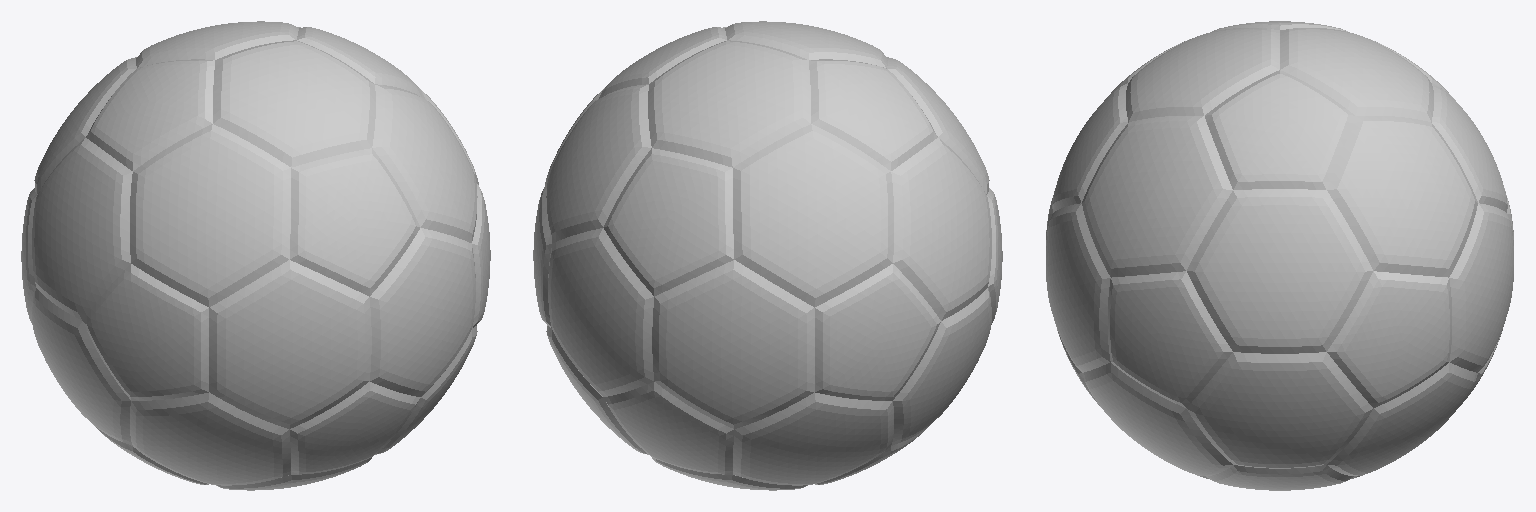
File: ball.obj
3 renders of one model, left to right at view 1: azimuth 30°, elevation 25°; view 2: azimuth 150°, elevation 25°; view 3: azimuth 270°, elevation 25°, orthographic.
Visible parts, largest first — view 1: Solid.001; view 2: Solid.001; view 3: Solid.001.
Part boxes in pixels (x1,y1,x2,y2): Solid.001: (21, 21, 490, 490); Solid.001: (533, 21, 1002, 490); Solid.001: (1046, 21, 1513, 490).
Size of the model in its own units: 0.9601 by 0.9601 by 0.9601.